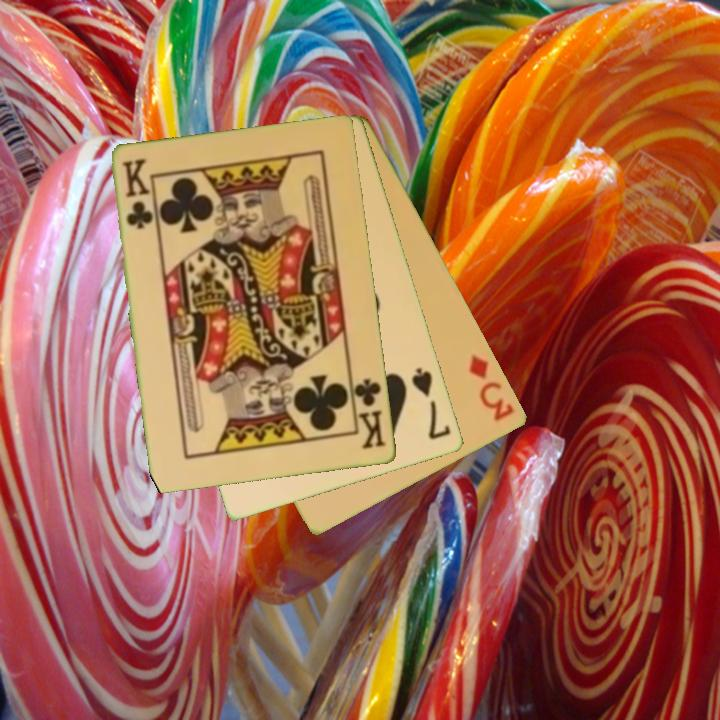3d: (466, 352, 517, 425)
7s: (408, 364, 454, 443)
Kc: (348, 373, 389, 452), (119, 156, 155, 233)
